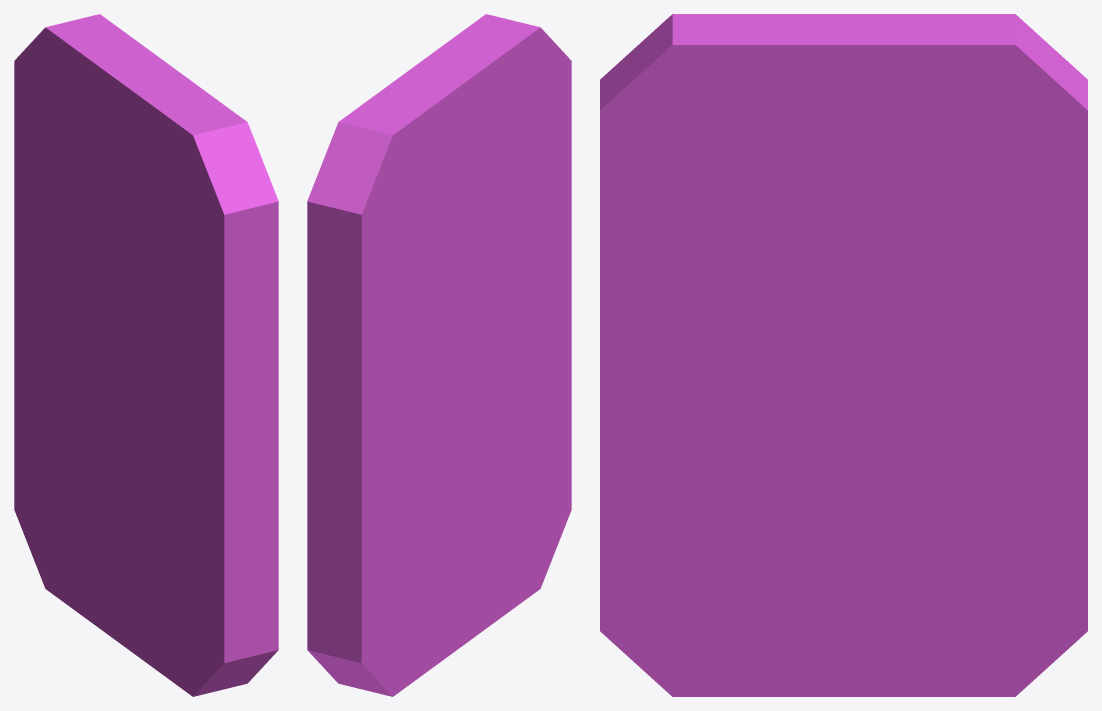
Rendered from cyberpunk_exit_card.fbx.
3 views of the same model, side by side, from view 1: azimuth 30°, elevation 25°; view 2: azimuth 150°, elevation 25°; view 3: azimuth 270°, elevation 25° (orthographic). The views are drawn at different scales.
Parts seen in each view (by area): view 1: Cube.001; view 2: Cube.001; view 3: Cube.001.
Part boxes in pixels (x1,y1,x2,y2): Cube.001: (14,14,278,696); Cube.001: (307,14,571,696); Cube.001: (600,14,1087,696).
Size of the model in its own units: 2.02 by 19.83 by 13.45.
